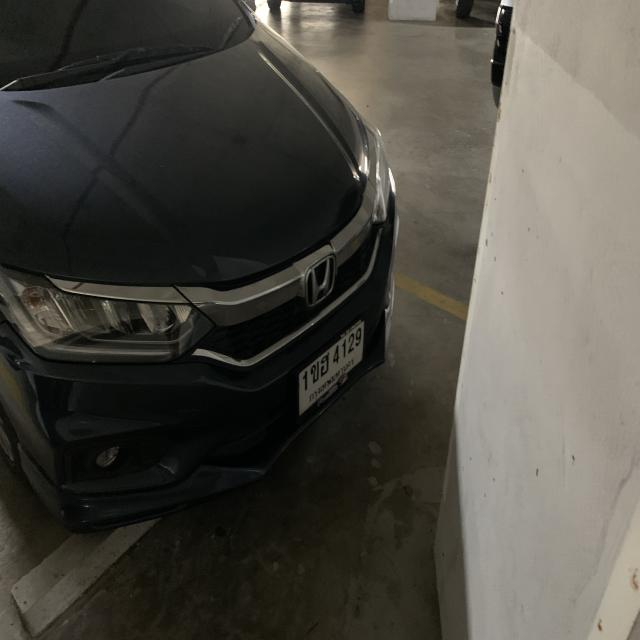license_plate: (288, 314, 369, 429)
